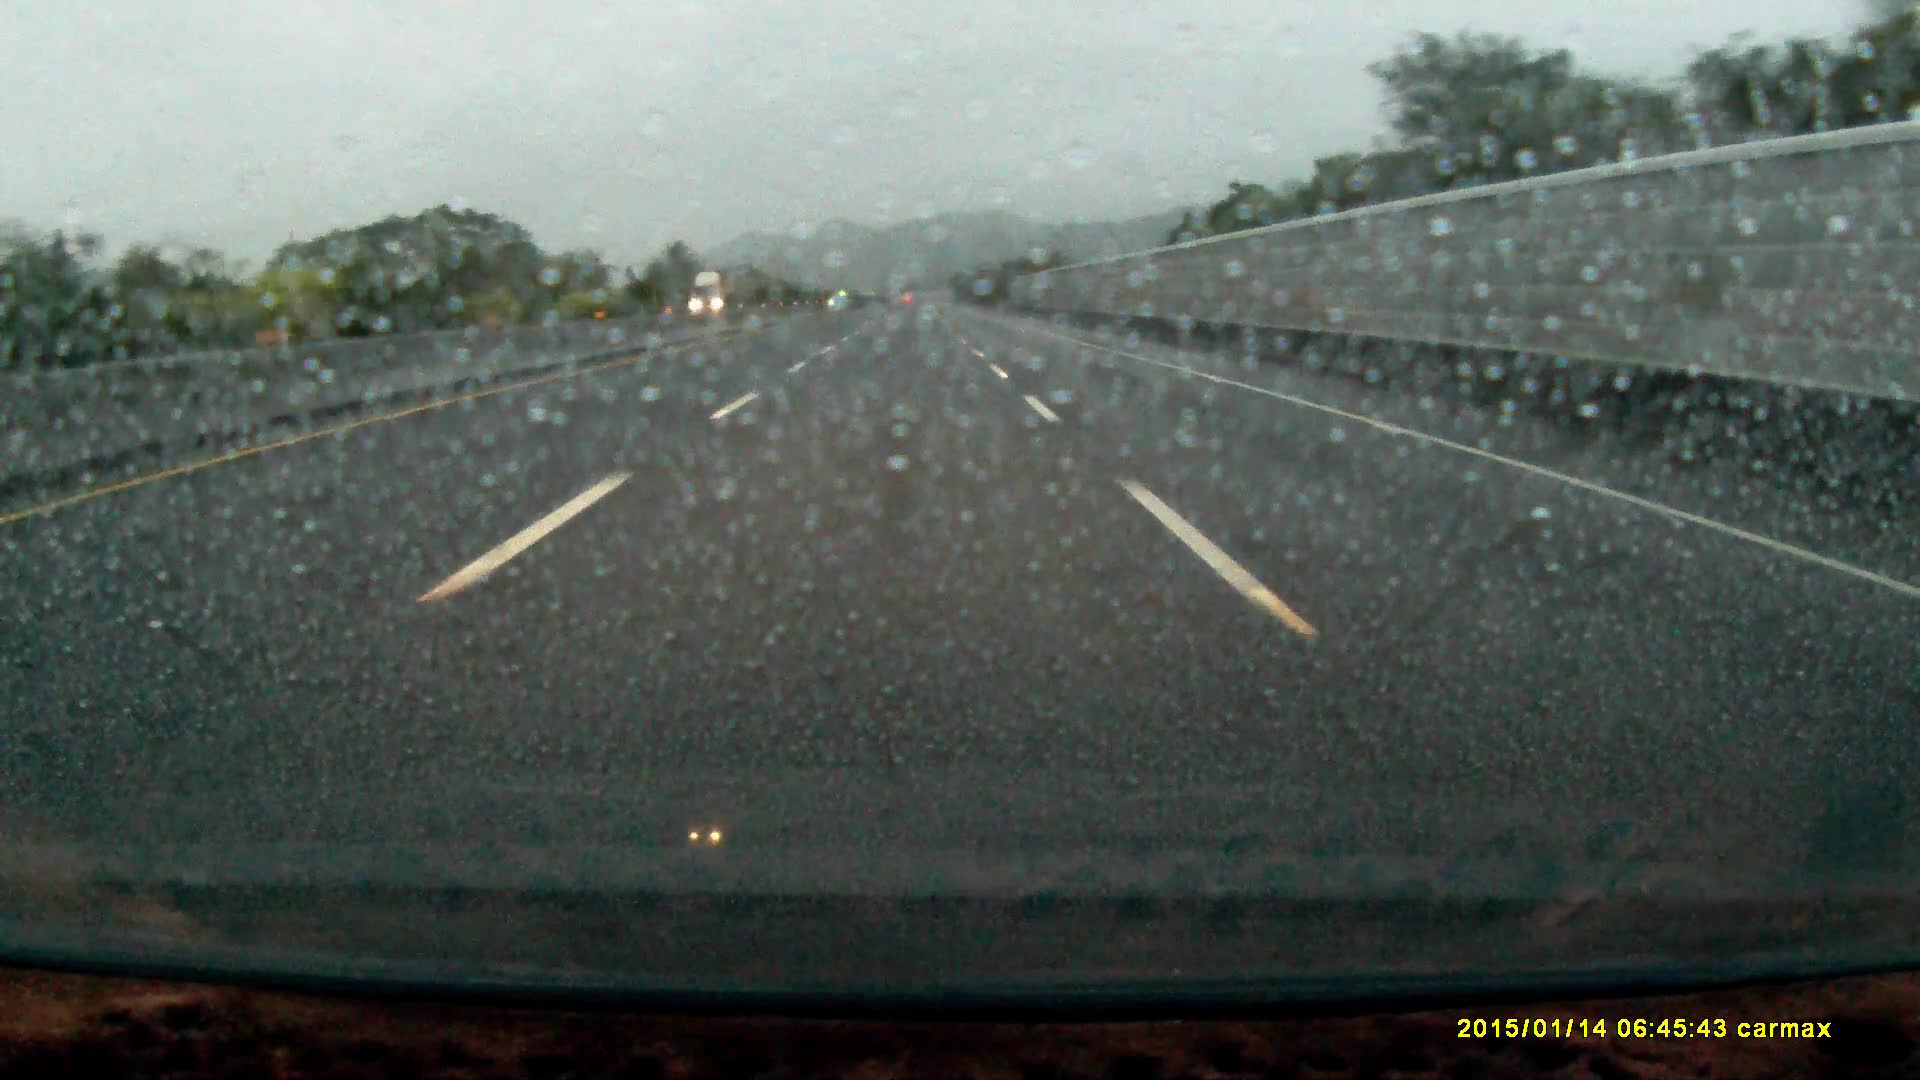vehicle: (687, 272, 740, 318)
